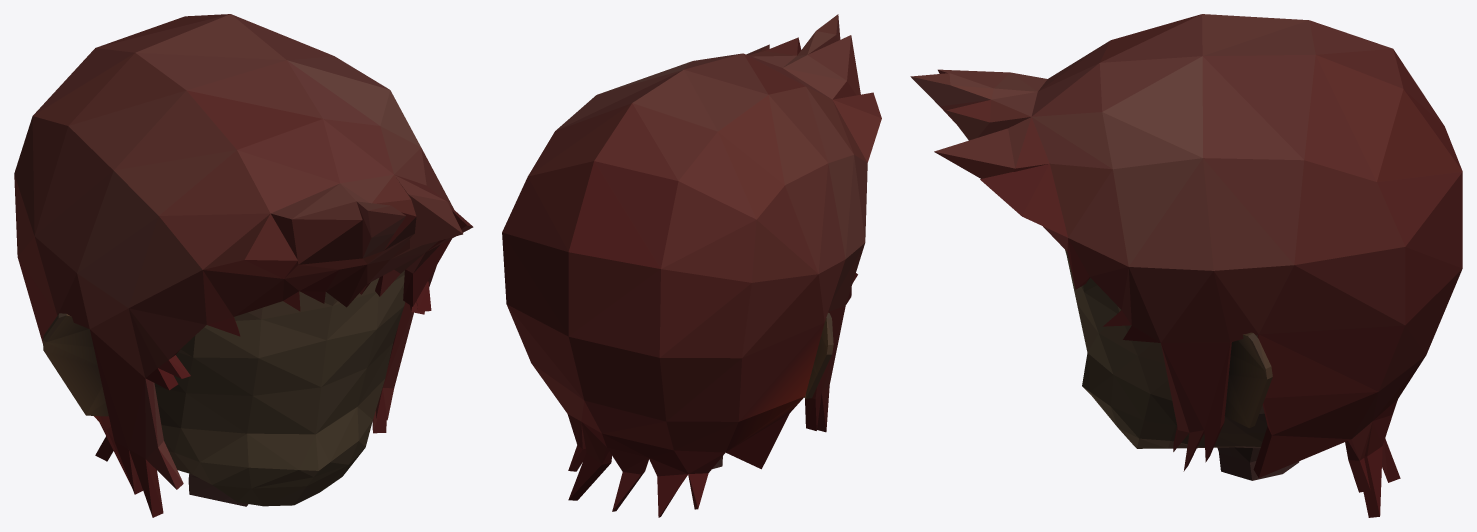
Rendered from helm_darkskin_standard_red.fbx.
3 renders of one model, left to right at view 1: azimuth 30°, elevation 25°; view 2: azimuth 150°, elevation 25°; view 3: azimuth 270°, elevation 25°, orthographic. The views are drawn at different scales.
Parts seen in each view (by area): view 1: helm_darkskin_standard_red; view 2: helm_darkskin_standard_red; view 3: helm_darkskin_standard_red.
Part boxes in pixels (x1,y1,x2,y2): helm_darkskin_standard_red: (14,14,473,517); helm_darkskin_standard_red: (502,14,881,517); helm_darkskin_standard_red: (910,14,1462,517).
Size of the model in its own units: 1.13 by 1.38 by 1.55.
